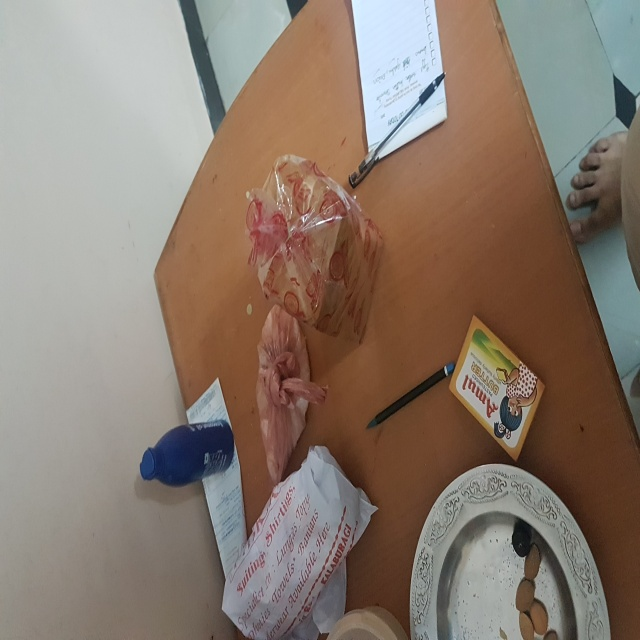butter: (451, 316, 546, 456)
